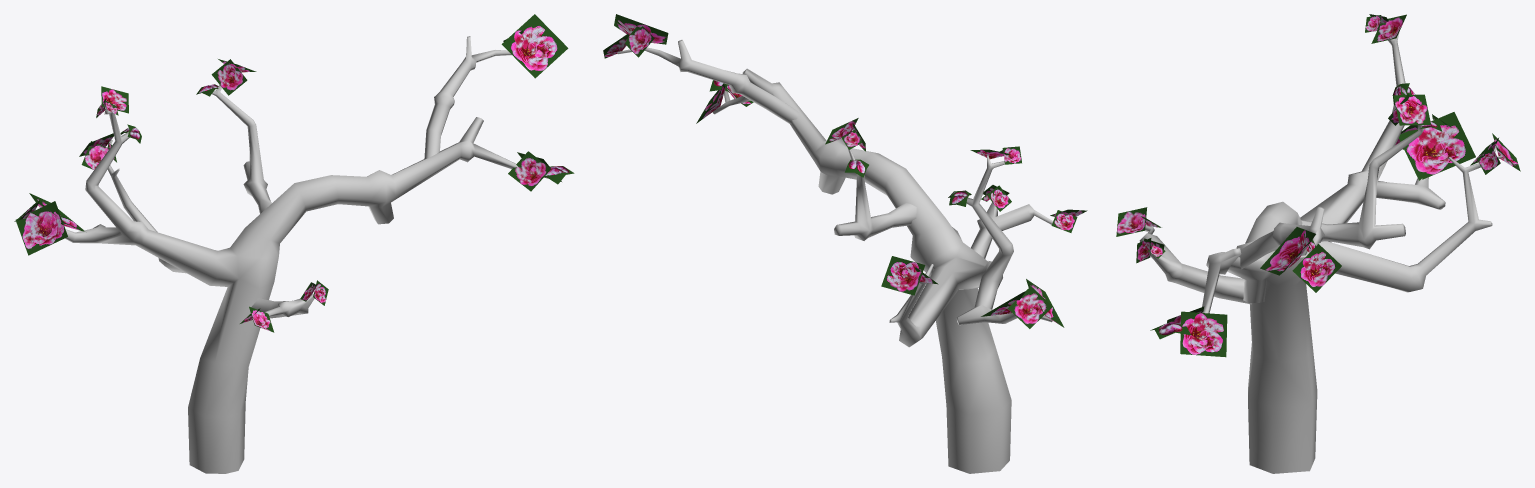
The model's file is Stage_BingYuan_Shu08.FBX.
3 views of the same model, side by side, from view 1: azimuth 30°, elevation 25°; view 2: azimuth 150°, elevation 25°; view 3: azimuth 270°, elevation 25° (orthographic). The views are drawn at different scales.
Parts seen in each view (by area): view 1: Stage_BingYuan_Shu08; view 2: Stage_BingYuan_Shu08; view 3: Stage_BingYuan_Shu08.
Part boxes in pixels (<box>): Stage_BingYuan_Shu08: <box>14,14,574,473</box>; Stage_BingYuan_Shu08: <box>603,14,1087,473</box>; Stage_BingYuan_Shu08: <box>1116,14,1520,473</box>.
Bounding box in the file's own units: 557 × 391 × 345.
